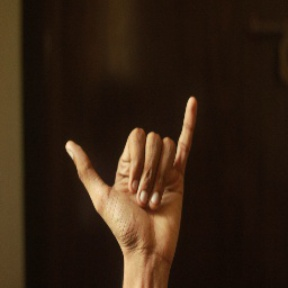J: (60, 94, 204, 259)
